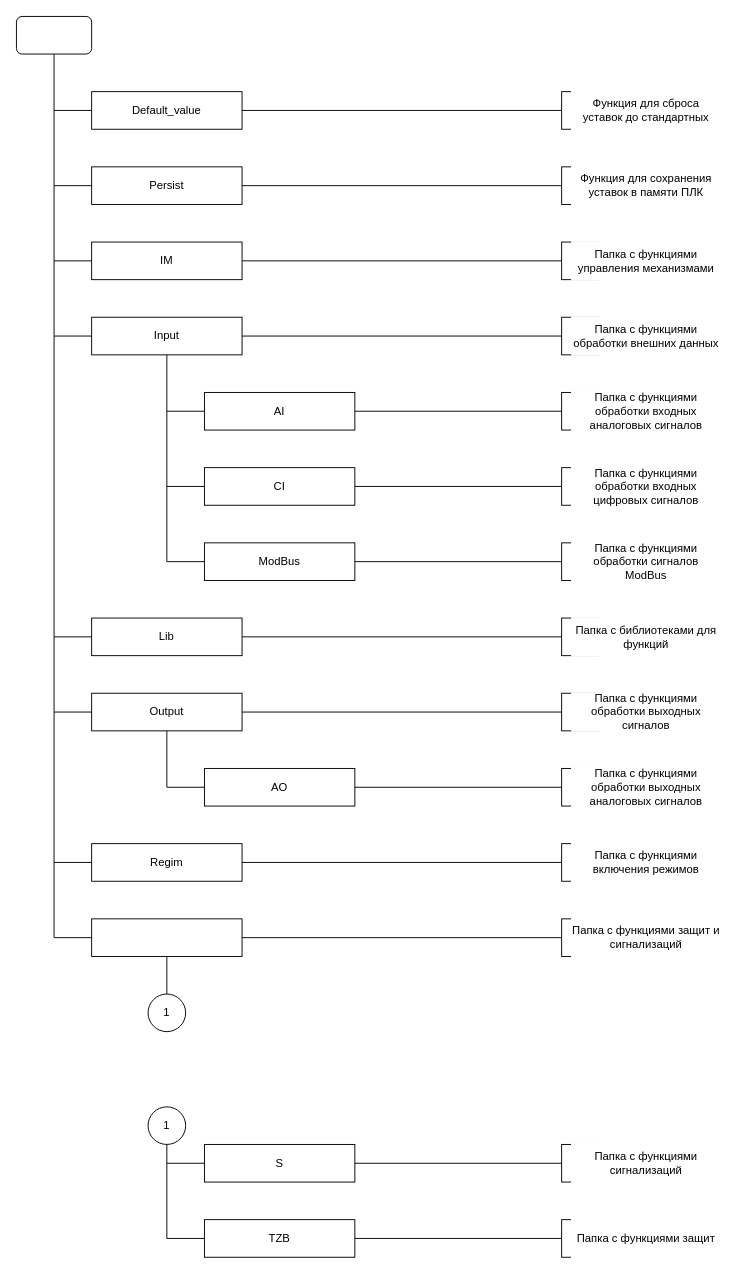
This 738x1275 diagram has some shape labels left out. Each missing label, with the centre of its shape:
"Main" belongs at point 54,35.
"TZBiS" belongs at point 166,937.
